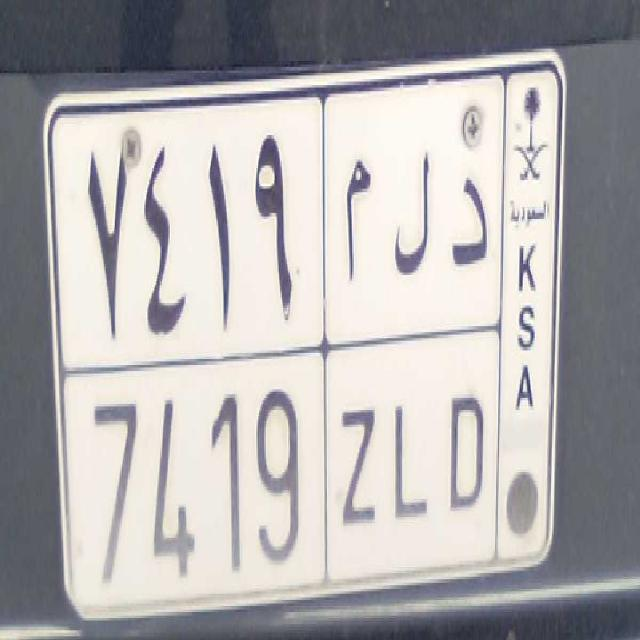license_plate: (76, 349, 494, 604)
